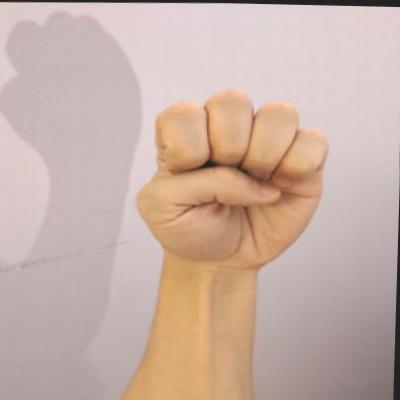hand: (131, 82, 338, 273)
